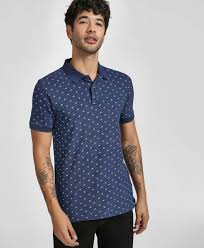C_polo shirt: (27, 56, 160, 215)
